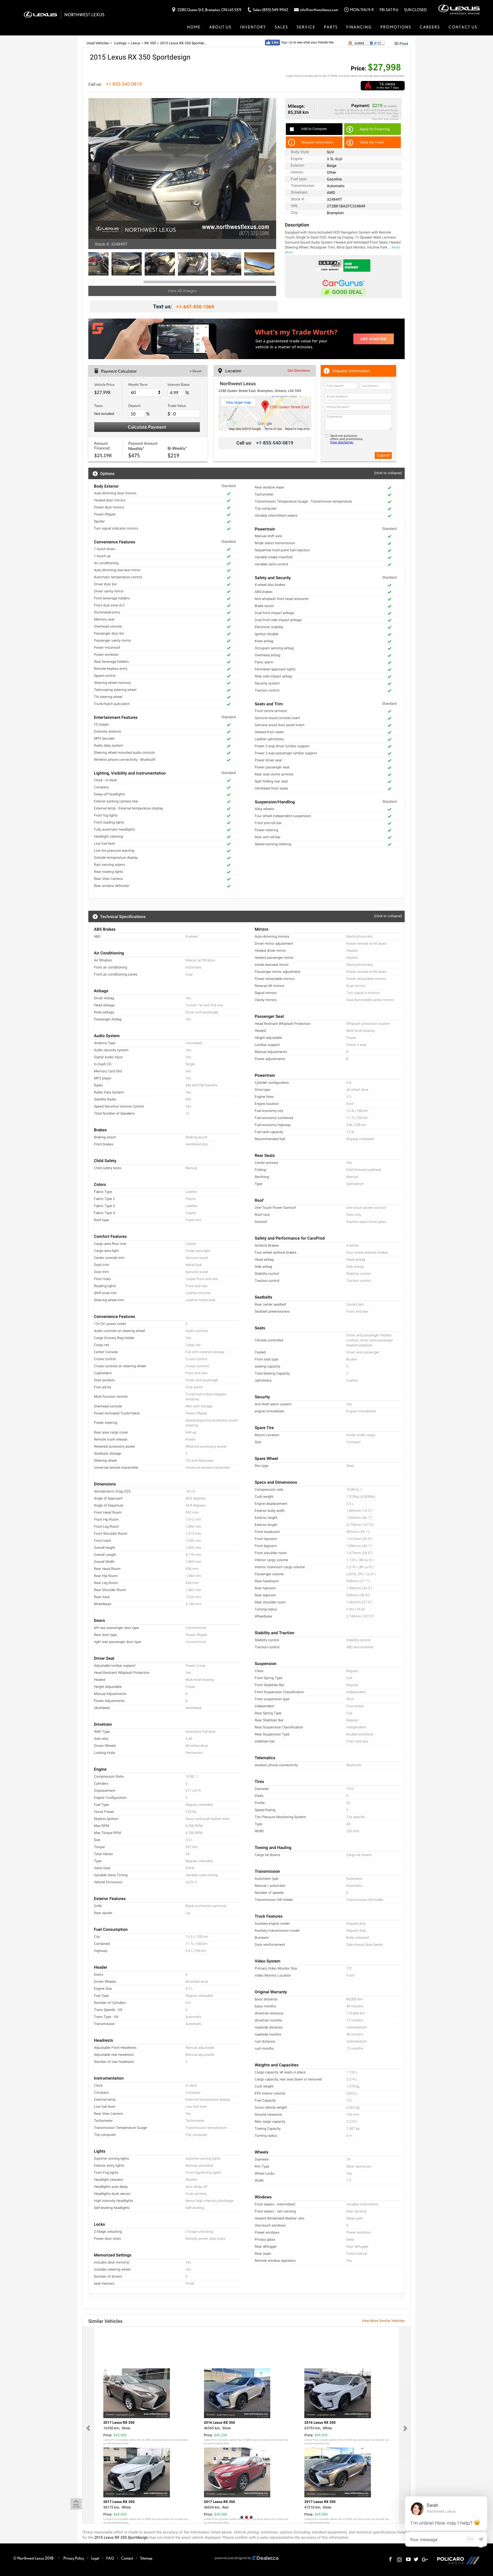car: (268, 166, 274, 172)
